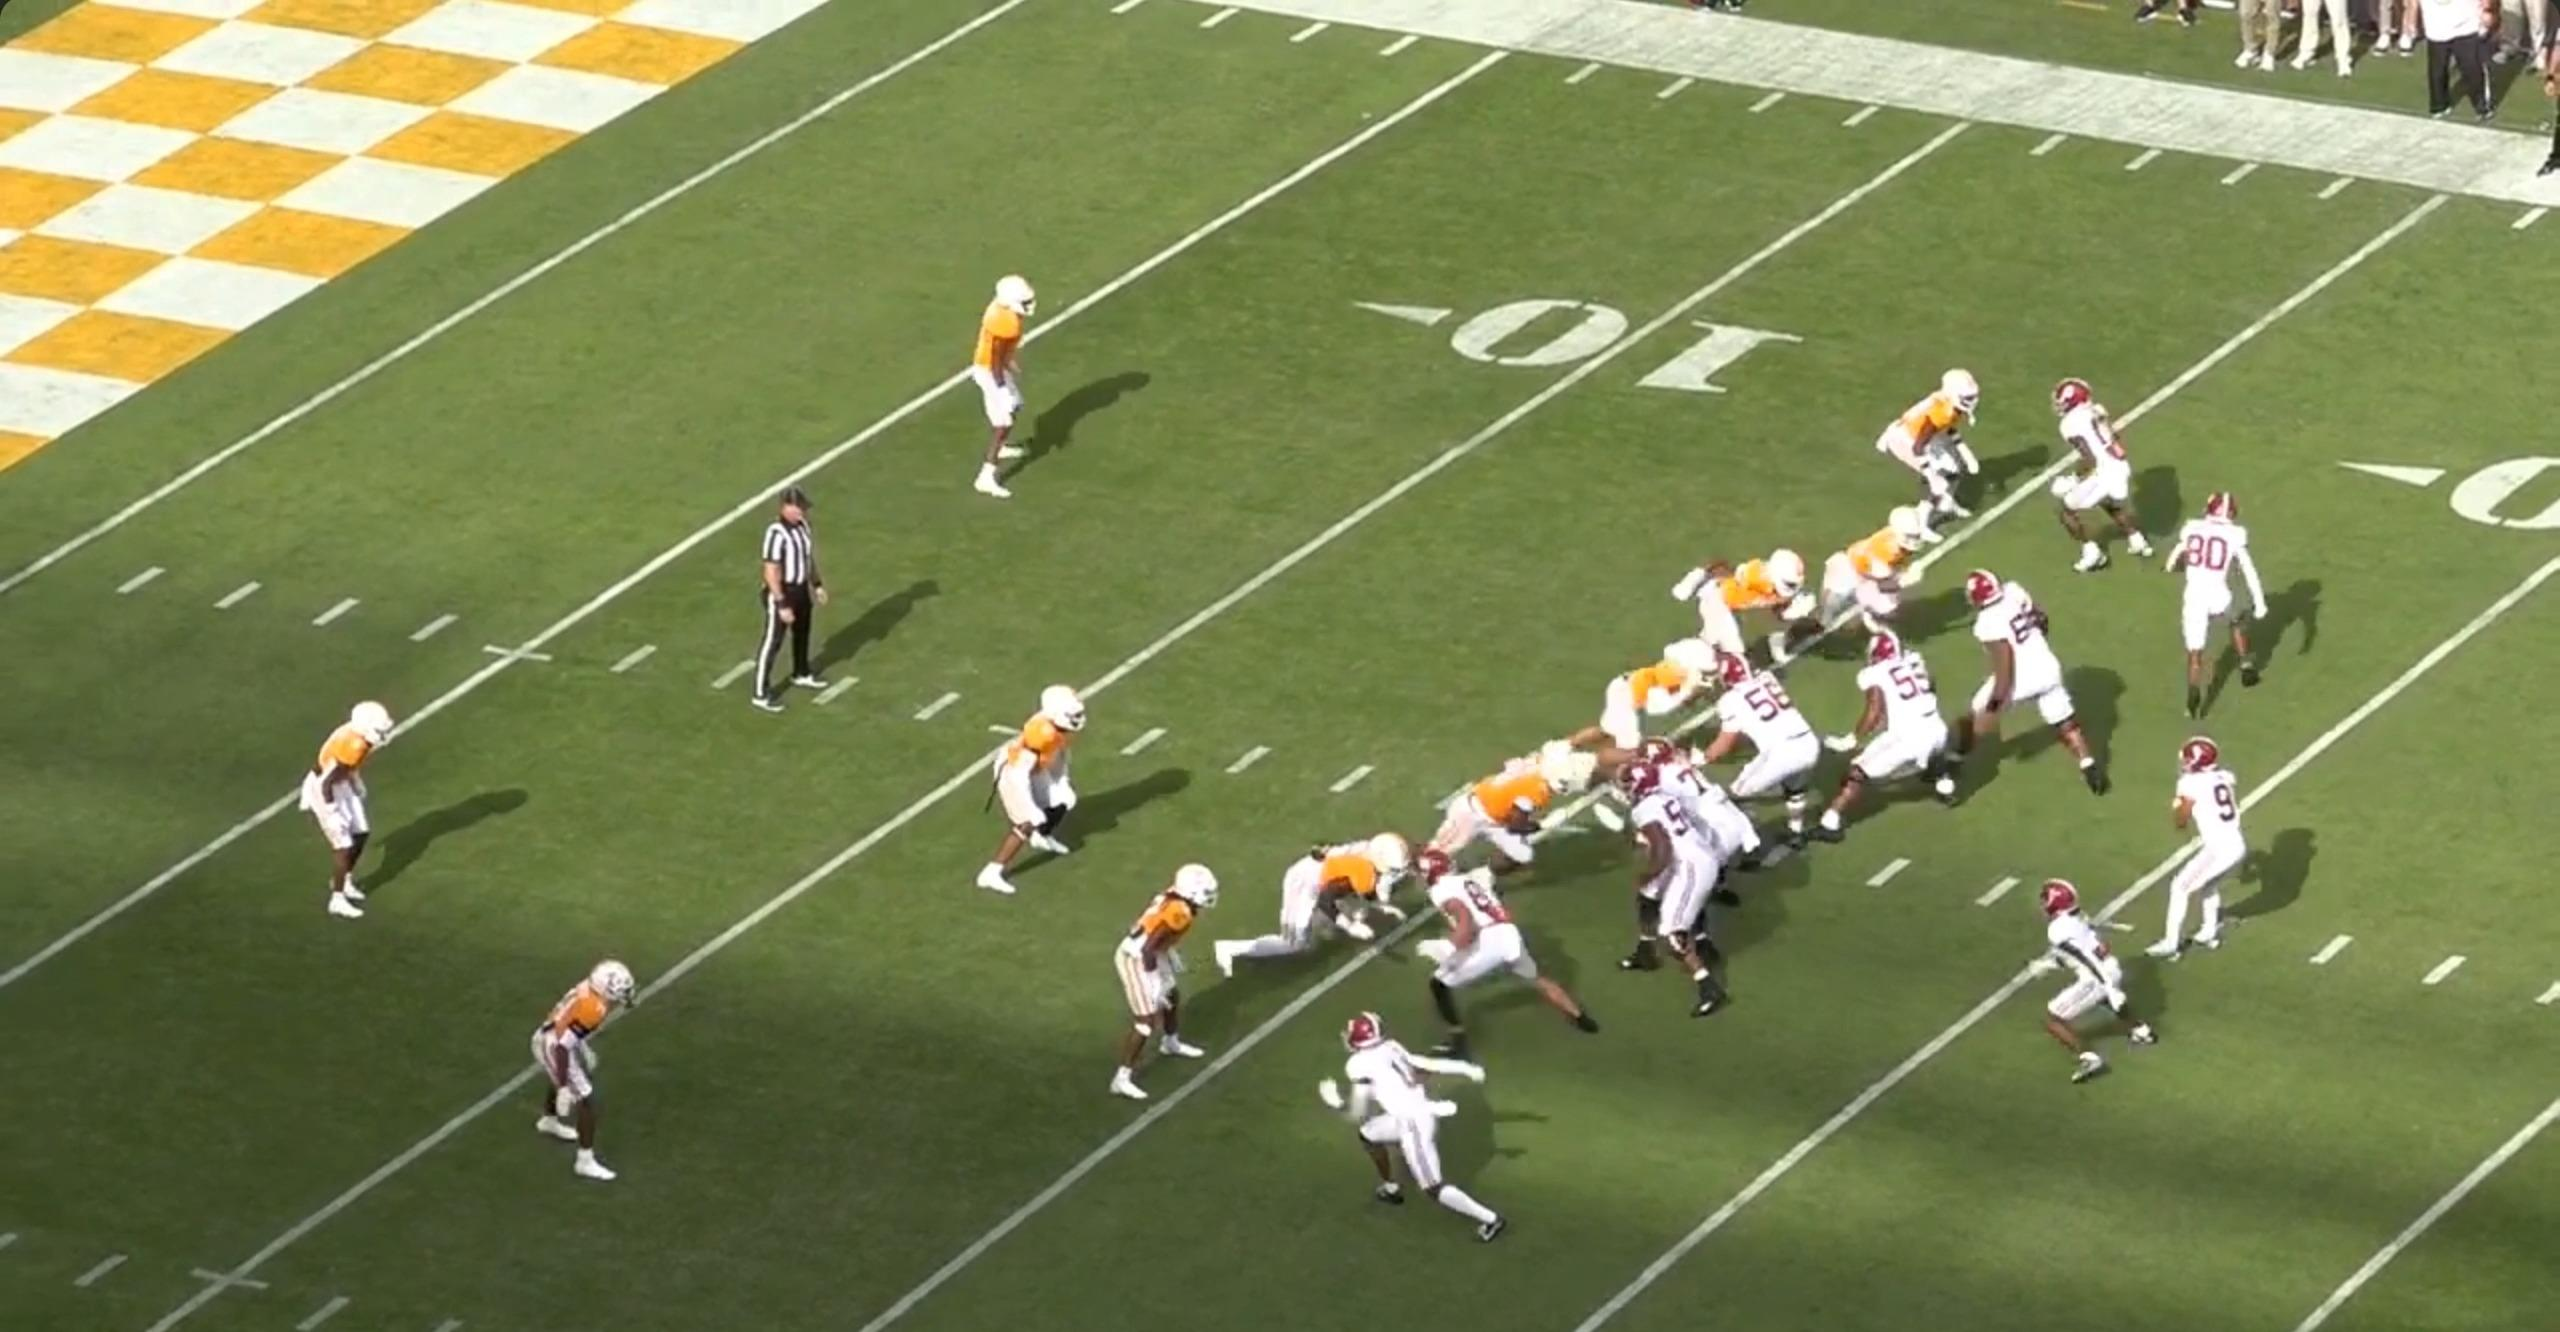player: (1416, 841, 1611, 1068), (1336, 1013, 1521, 1251), (1944, 569, 2107, 805), (1820, 631, 1974, 847), (1205, 830, 1422, 976), (1705, 647, 1851, 861), (1617, 758, 1734, 1024), (1623, 732, 1756, 965), (1096, 861, 1218, 1113), (2017, 873, 2155, 1080), (518, 956, 635, 1187), (979, 682, 1100, 901), (1401, 745, 1559, 911), (1796, 497, 1939, 670), (2155, 739, 2259, 966), (2175, 485, 2271, 729), (287, 694, 390, 920), (2042, 378, 2153, 582), (963, 262, 1055, 503), (1879, 356, 1991, 535), (1664, 536, 1819, 661), (1576, 633, 1725, 759)
ref: (738, 491, 829, 720)
